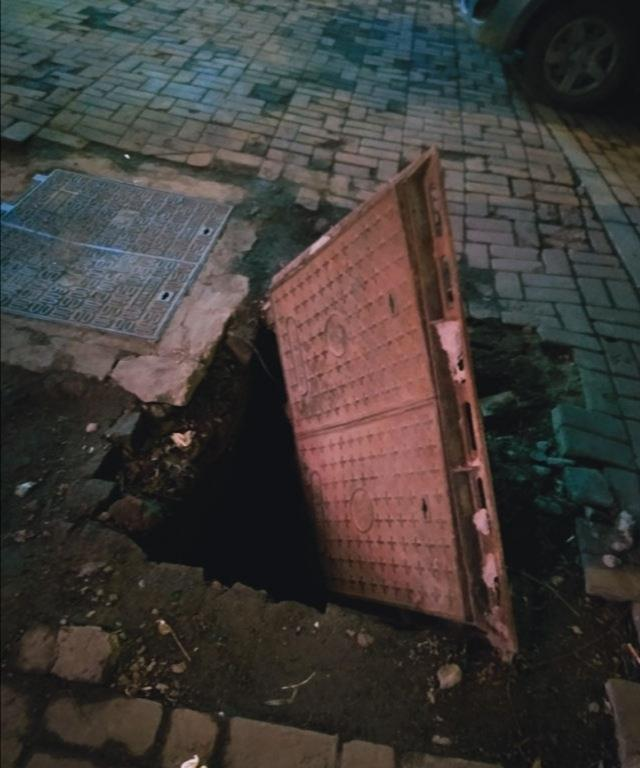wellcover: (106, 169, 565, 687)
